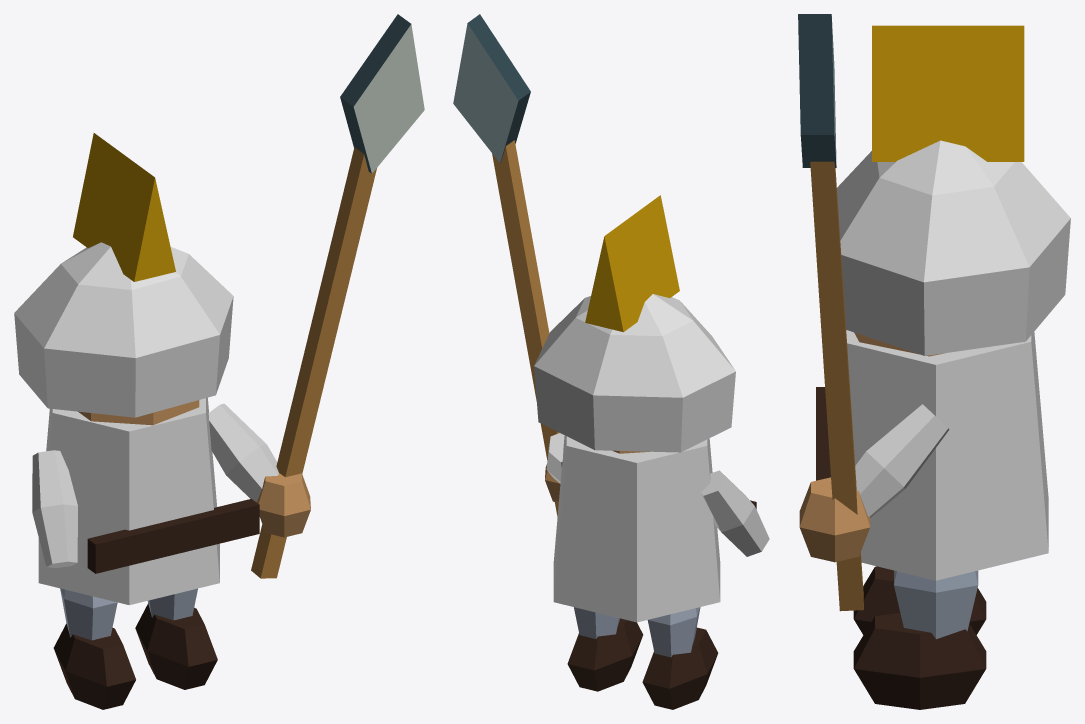
The model's file is troop_spear.fbx.
The picture shows the model from 3 angles, left to right: view 1: azimuth 30°, elevation 25°; view 2: azimuth 150°, elevation 25°; view 3: azimuth 270°, elevation 25°; orthographic projection. The views are drawn at different scales.
Parts seen in each view (by area): view 1: troop_spear; view 2: troop_spear; view 3: troop_spear.
Part boxes in pixels (x1=…): troop_spear: x1=14, y1=14, x2=424, y2=709; troop_spear: x1=453, y1=14, x2=769, y2=709; troop_spear: x1=798, y1=14, x2=1070, y2=709.
Bounding box in the file's own units: 0.6289 × 1.1 × 0.3401.
